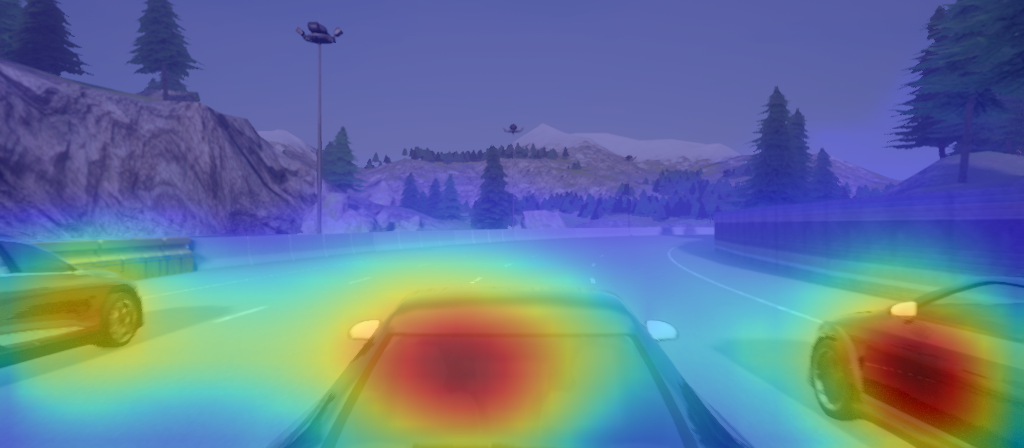Barrier: (715, 191, 1018, 275), (158, 235, 329, 269), (537, 222, 713, 238), (364, 227, 483, 245)
Lane Marking: (212, 293, 273, 326), (347, 273, 376, 289), (588, 259, 600, 270)
Light Pole: (292, 17, 347, 235), (502, 117, 525, 230)
car: (277, 282, 764, 448), (807, 272, 1024, 448), (1, 228, 148, 372)
